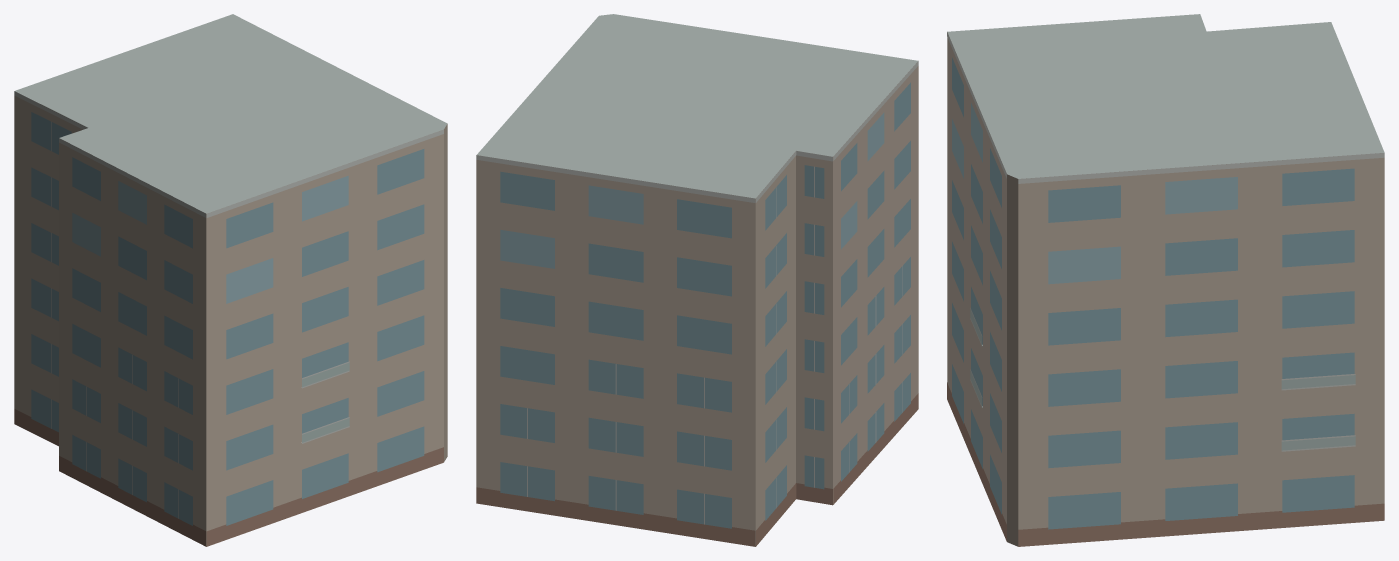
File: survey-upis-32704829.glb
The picture shows the model from 3 angles, left to right: view 1: azimuth 30°, elevation 25°; view 2: azimuth 150°, elevation 25°; view 3: azimuth 270°, elevation 25°; orthographic projection. The views are drawn at different scales.
Visible parts, largest first — view 1: survey-upis-32704829.tmp; view 2: survey-upis-32704829.tmp; view 3: survey-upis-32704829.tmp.
Part boxes in pixels (x1,y1,x2,y2): survey-upis-32704829.tmp: (14, 14, 447, 546); survey-upis-32704829.tmp: (476, 14, 918, 546); survey-upis-32704829.tmp: (947, 14, 1384, 546).
Bounding box in the file's own units: 17.42 × 18.1 × 19.52.
